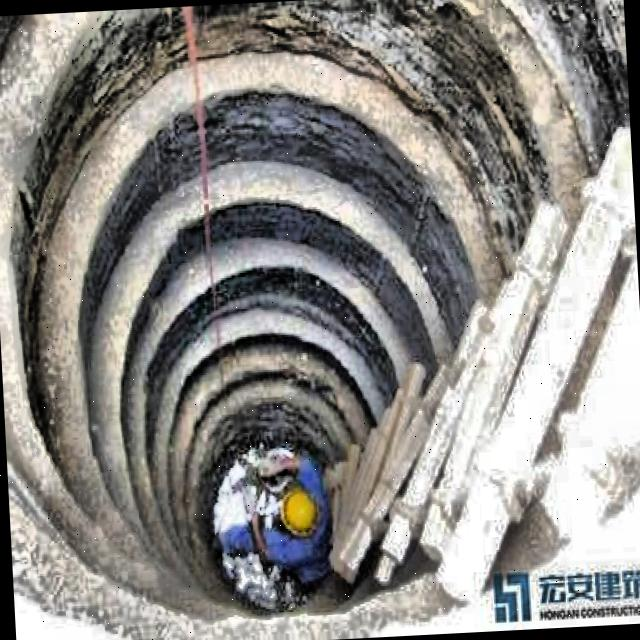helmet: (276, 488, 328, 536)
